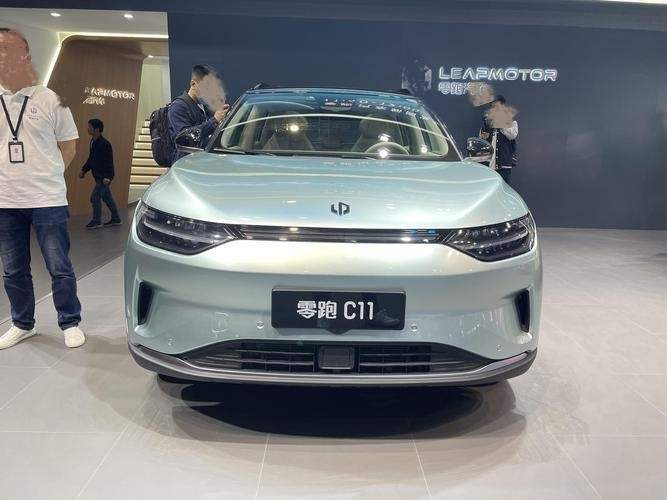LEAPMOTOR: (330, 202, 350, 217)
